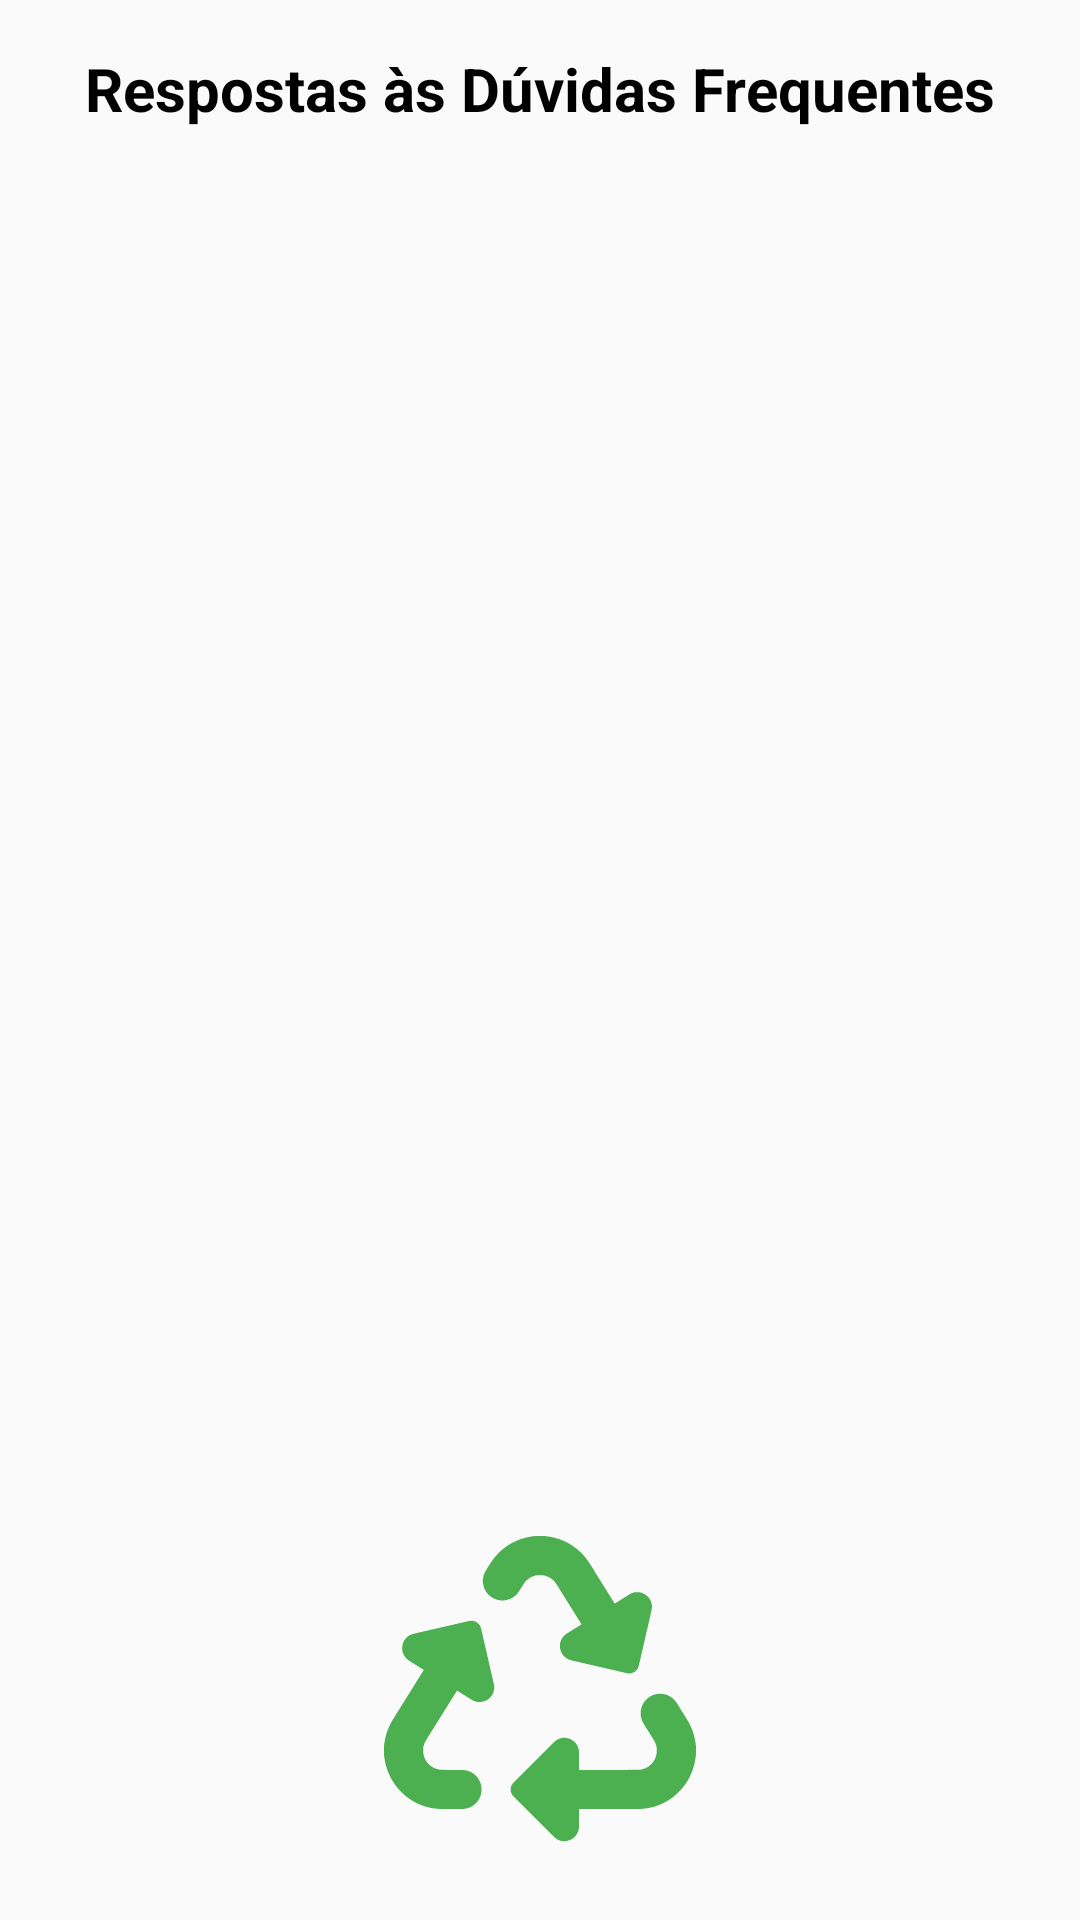

Screen size 1080 x 1920. Icon name, then its center in pixels as [x,y]:
Imagem de Reciclagem: [540,1689]
